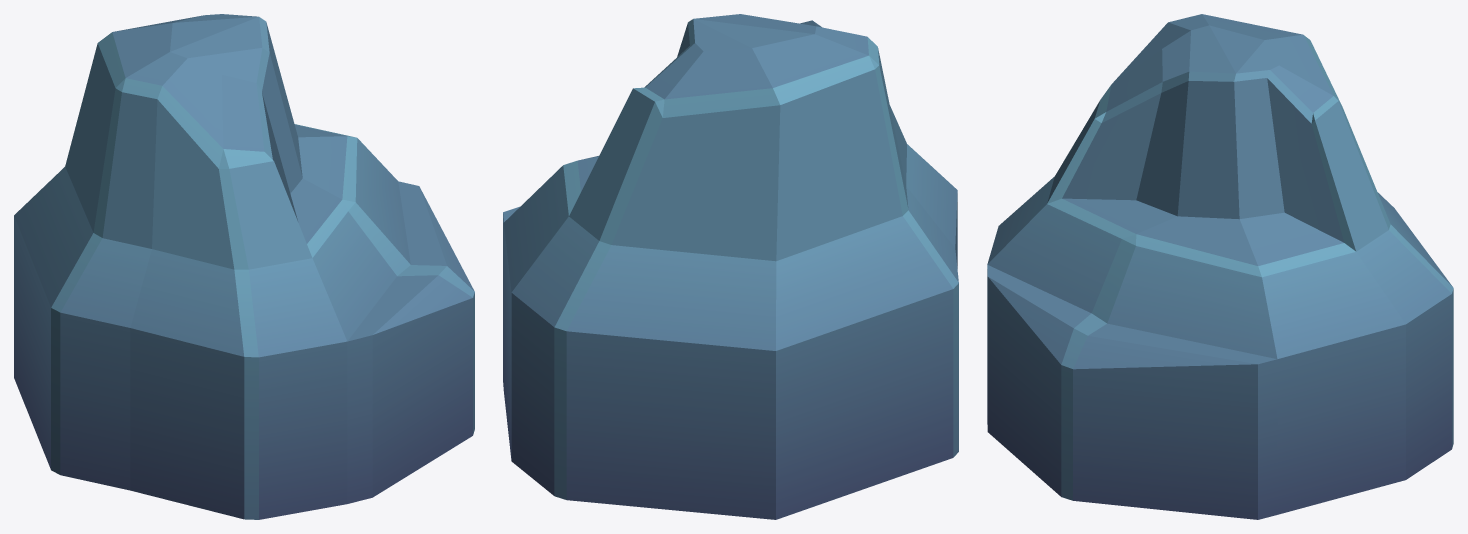
Rendered from Rock-3-10.fbx.
The picture shows the model from 3 angles, left to right: view 1: azimuth 30°, elevation 25°; view 2: azimuth 150°, elevation 25°; view 3: azimuth 270°, elevation 25°; orthographic projection. The views are drawn at different scales.
Visible parts, largest first — view 1: Rock-3-10; view 2: Rock-3-10; view 3: Rock-3-10.
Boxes of the visible parts, x1=… form: Rock-3-10: x1=14, y1=14, x2=474, y2=519; Rock-3-10: x1=503, y1=14, x2=958, y2=519; Rock-3-10: x1=987, y1=14, x2=1453, y2=519.
Bounding box in the file's own units: 336 × 306 × 353.
